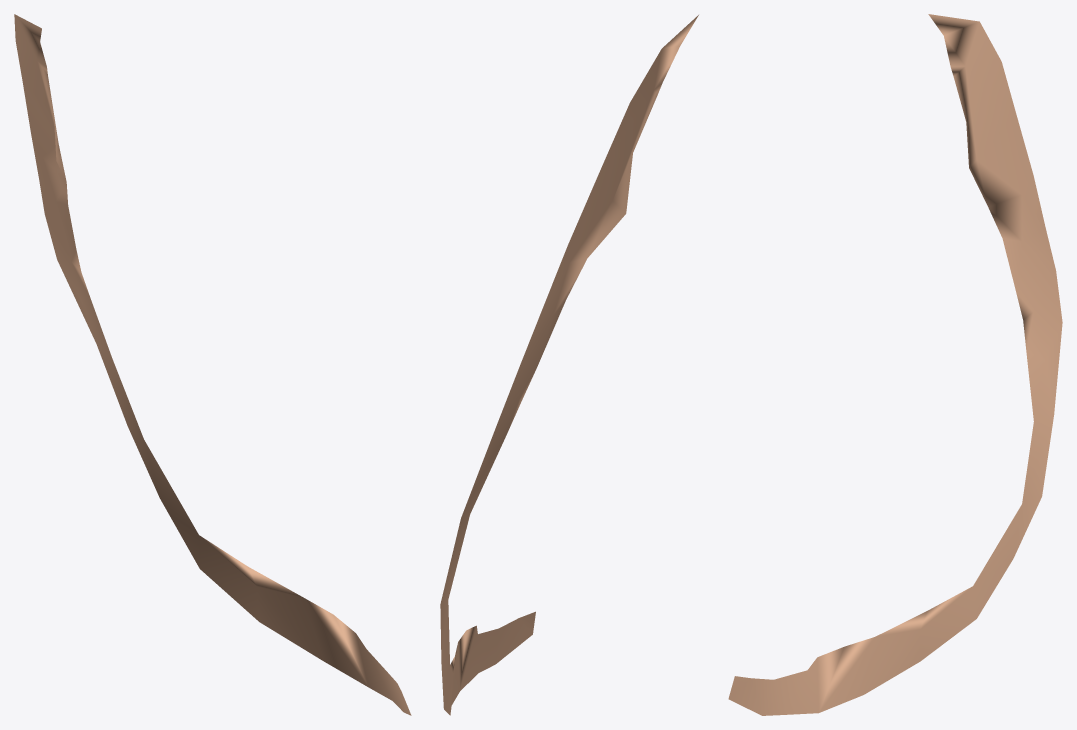
The model's file is posterior-auricular-groove-r.glb.
The picture shows the model from 3 angles, left to right: view 1: azimuth 30°, elevation 25°; view 2: azimuth 150°, elevation 25°; view 3: azimuth 270°, elevation 25°; orthographic projection. The views are drawn at different scales.
Parts seen in each view (by area): view 1: Posterior auricular groove.r; view 2: Posterior auricular groove.r; view 3: Posterior auricular groove.r.
Part boxes in pixels (x1,y1,x2,y2): Posterior auricular groove.r: (14, 14, 411, 715); Posterior auricular groove.r: (440, 15, 698, 715); Posterior auricular groove.r: (728, 14, 1062, 715).
Bounding box in the file's own units: 0.0172 × 0.0416 × 0.0214.
